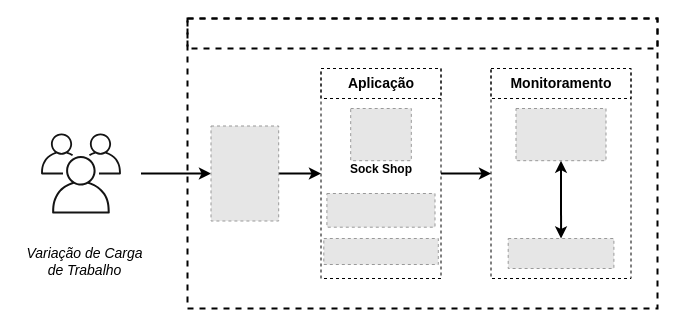
This 675x326 diagram has some shape labels left out. Grey dashed boxes stand in for pictures. Each missing label, with the centre of its shape:
Containers: point 422,33
Users: point 80,173
